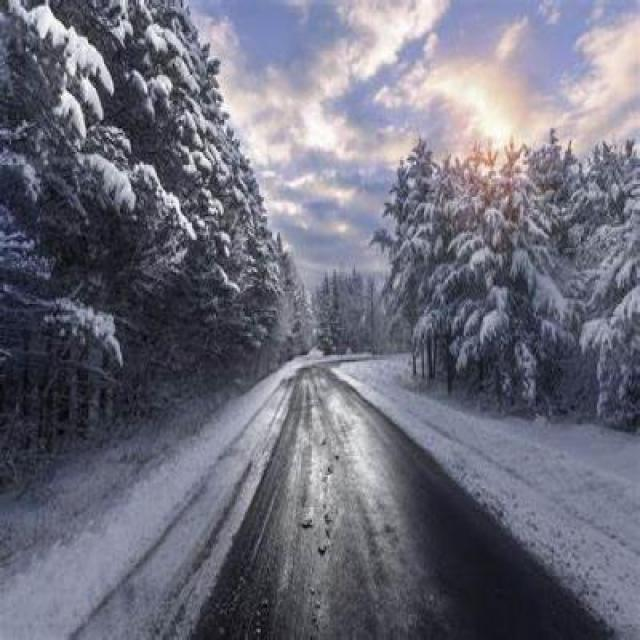ice-road: (74, 368, 612, 639)
